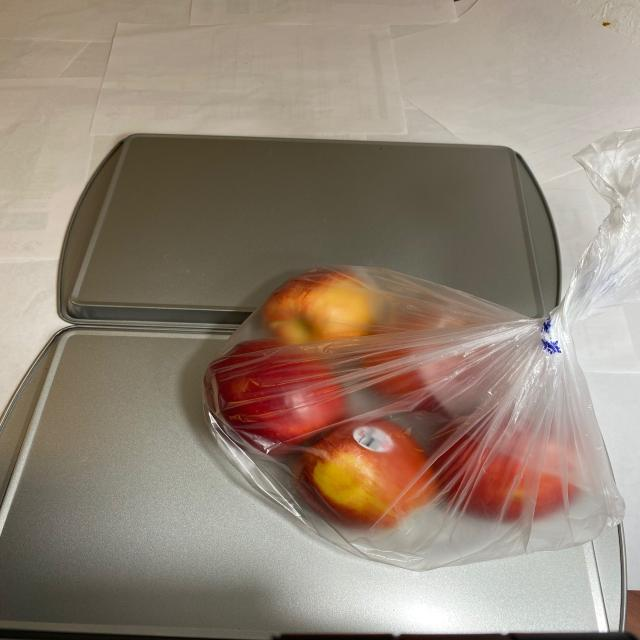apple: (200, 266, 592, 537)
